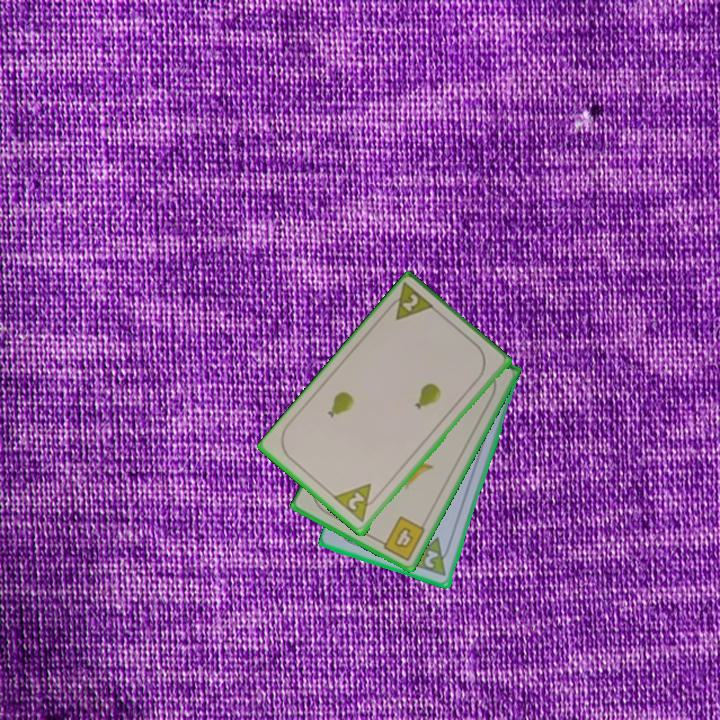2p: (382, 280, 438, 324), (331, 480, 383, 526), (406, 534, 455, 580)
4b: (374, 513, 428, 564)
